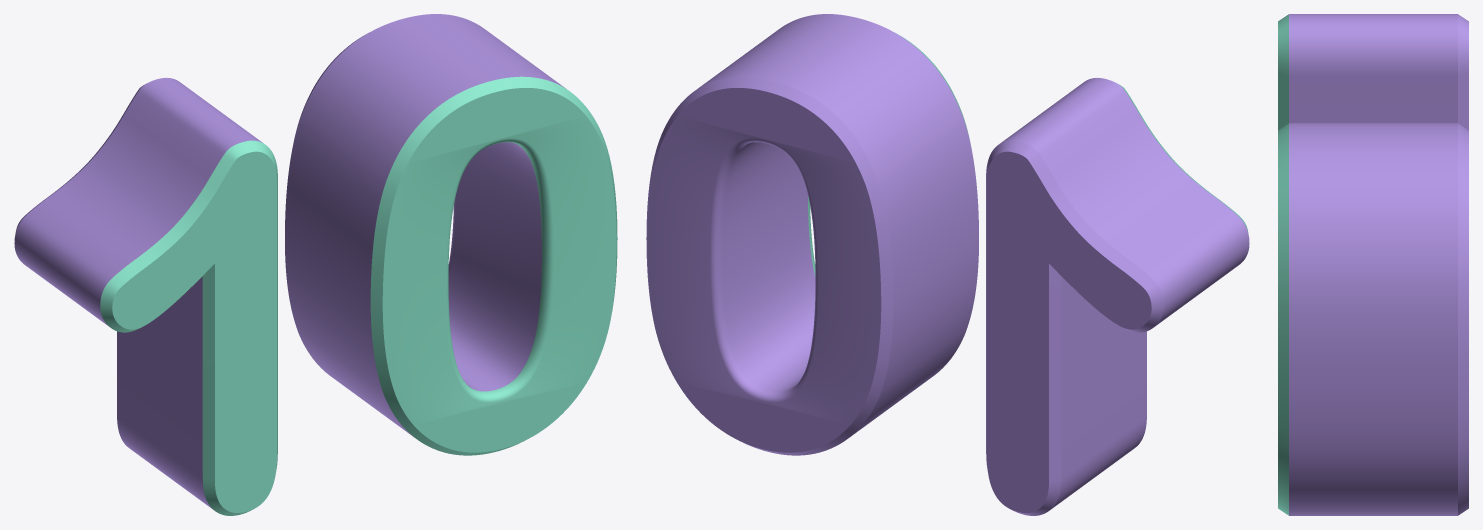
3 renders of one model, left to right at view 1: azimuth 30°, elevation 25°; view 2: azimuth 150°, elevation 25°; view 3: azimuth 270°, elevation 25°, orthographic.
Visible parts, largest first — view 1: Sepuluh_3D; view 2: Sepuluh_3D; view 3: Sepuluh_3D.
Part boxes in pixels (x1,y1,x2,y2): Sepuluh_3D: [14, 14, 617, 515]; Sepuluh_3D: [646, 14, 1249, 515]; Sepuluh_3D: [1278, 14, 1468, 515].
Size of the model in its own units: 239 by 164 by 77.6.
